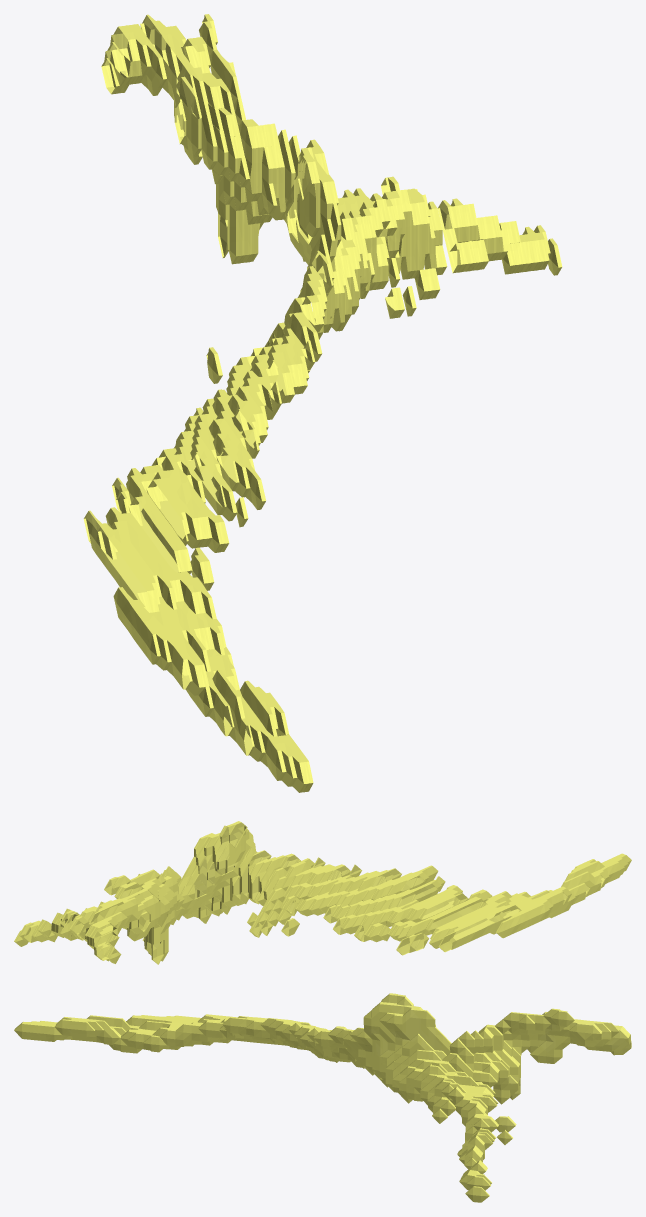
File: SVV_BWM-VR08.gltf
3 renders of one model, top to bottom at view 1: azimuth 30°, elevation 25°; view 2: azimuth 150°, elevation 25°; view 3: azimuth 270°, elevation 25°, orthographic. The views are drawn at different scales.
Parts seen in each view (by area): view 1: BWM-VR08; view 2: BWM-VR08; view 3: BWM-VR08.
Part boxes in pixels (x1,y1,x2,y2): BWM-VR08: (83, 14, 562, 792); BWM-VR08: (14, 821, 631, 964); BWM-VR08: (14, 993, 631, 1202).
Size of the model in its own units: 33197 by 12515 by 49171.
